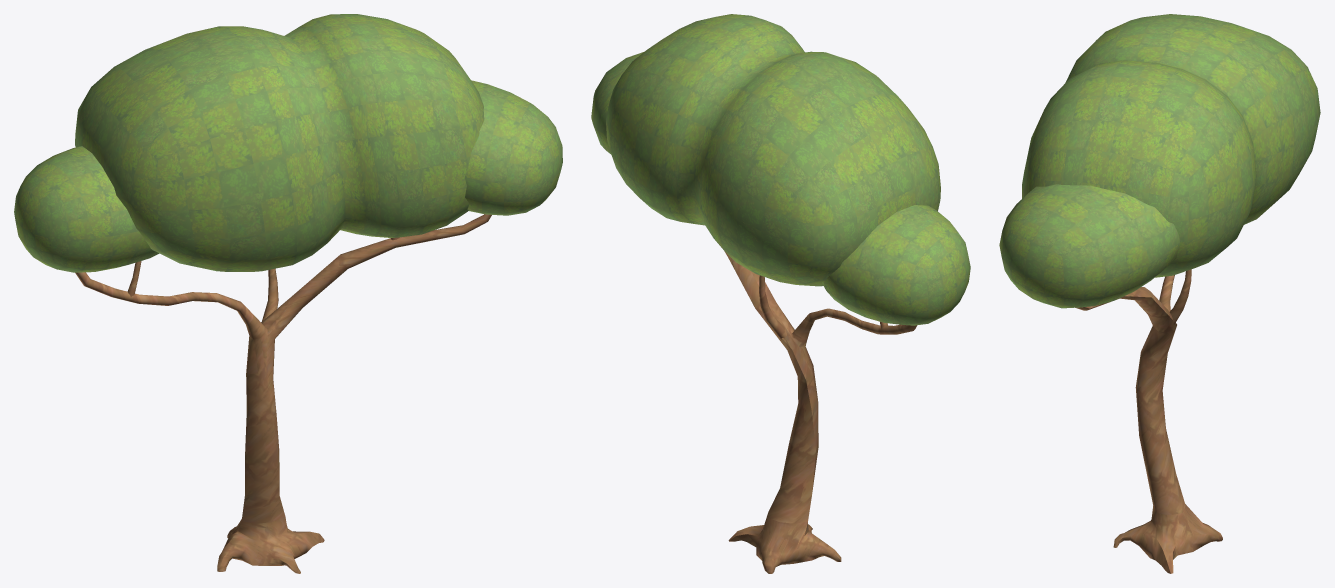
File: Tree_Big_Curved_02.fbx
3 views of the same model, side by side, from view 1: azimuth 30°, elevation 25°; view 2: azimuth 150°, elevation 25°; view 3: azimuth 270°, elevation 25° (orthographic). The views are drawn at different scales.
Parts seen in each view (by area): view 1: Tree_Big_Curved_02; view 2: Tree_Big_Curved_02; view 3: Tree_Big_Curved_02.
Part boxes in pixels (x1,y1,x2,y2): Tree_Big_Curved_02: [14, 14, 562, 573]; Tree_Big_Curved_02: [591, 14, 970, 573]; Tree_Big_Curved_02: [999, 14, 1320, 573].
Bounding box in the file's own units: 1022 × 1132 × 644.
